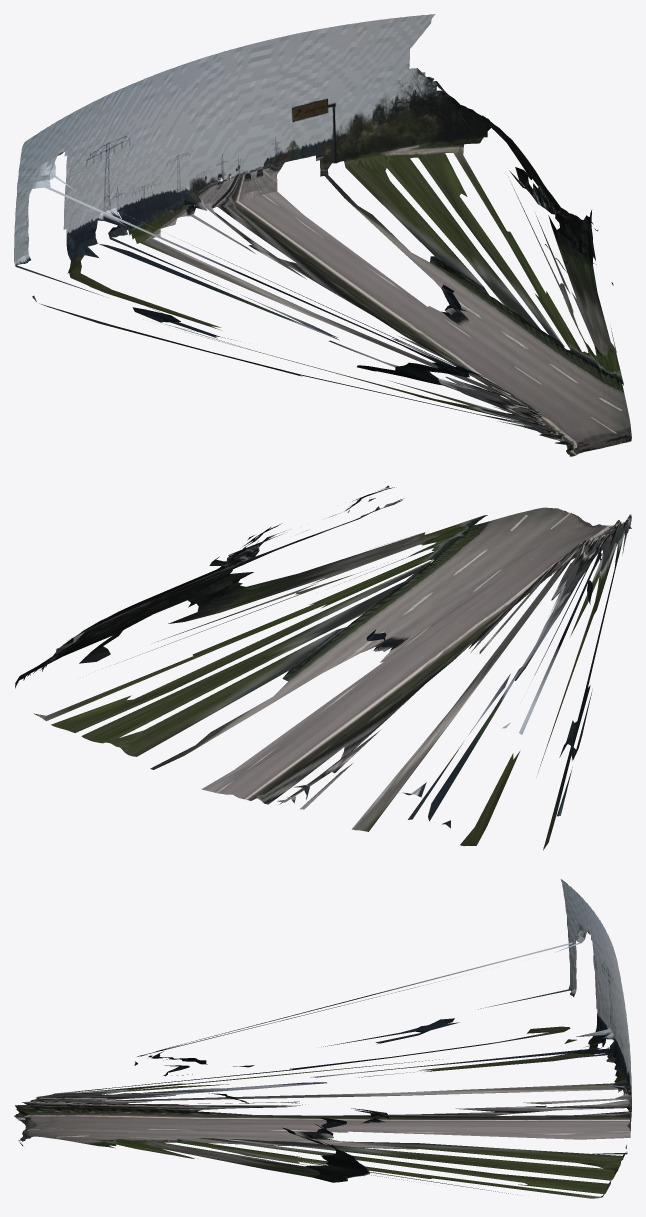
3 views of the same model, one above another, from view 1: azimuth 30°, elevation 25°; view 2: azimuth 150°, elevation 25°; view 3: azimuth 270°, elevation 25° (orthographic). The views are drawn at different scales.
Parts seen in each view (by area): view 1: defaultobject; view 2: defaultobject; view 3: defaultobject.
Part boxes in pixels (x1=…): defaultobject: x1=14, y1=14, x2=631, y2=456; defaultobject: x1=15, y1=485, x2=631, y2=850; defaultobject: x1=14, y1=879, x2=631, y2=1198.
Size of the model in its own units: 36.55 by 12.54 by 44.76.
Materials: 1 (1 with a texture image).
